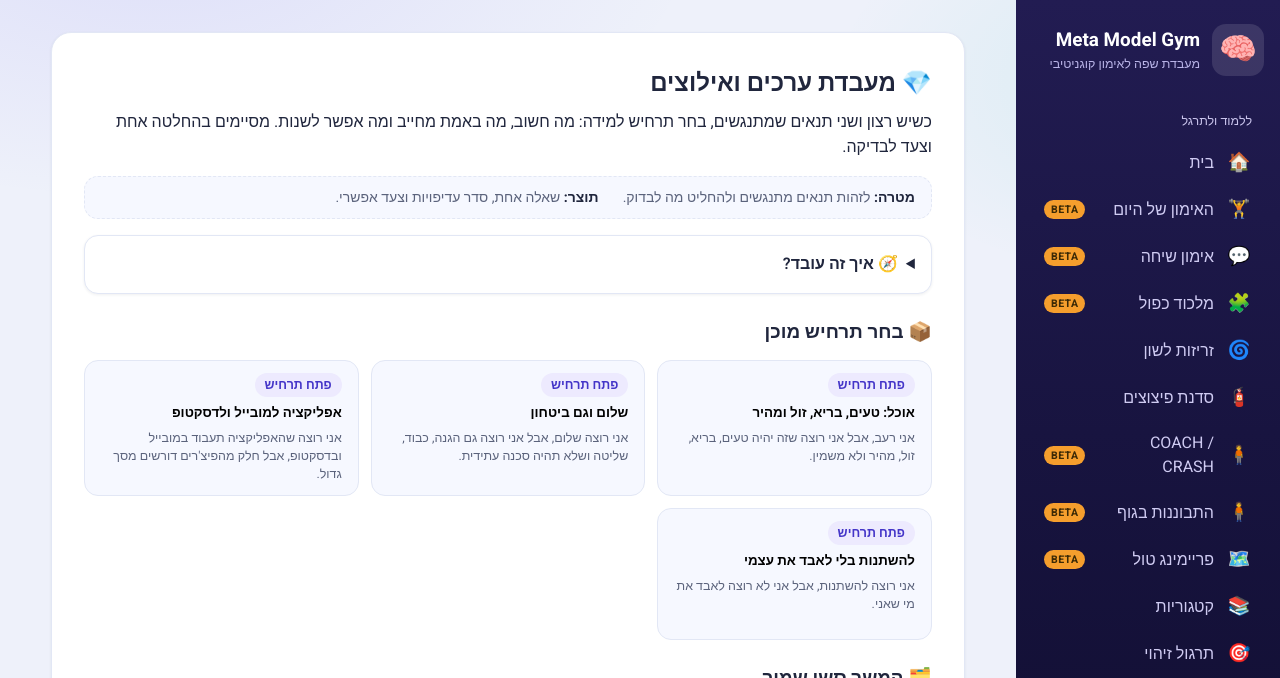
it: values lab › walks one step at a time on a phone and ends with a summary card
The width and height of the screenshot is (1280, 678).
Click the button "פתח תרחיש". click: [795, 428]
box: x1=657 y1=360 x2=932 y2=496
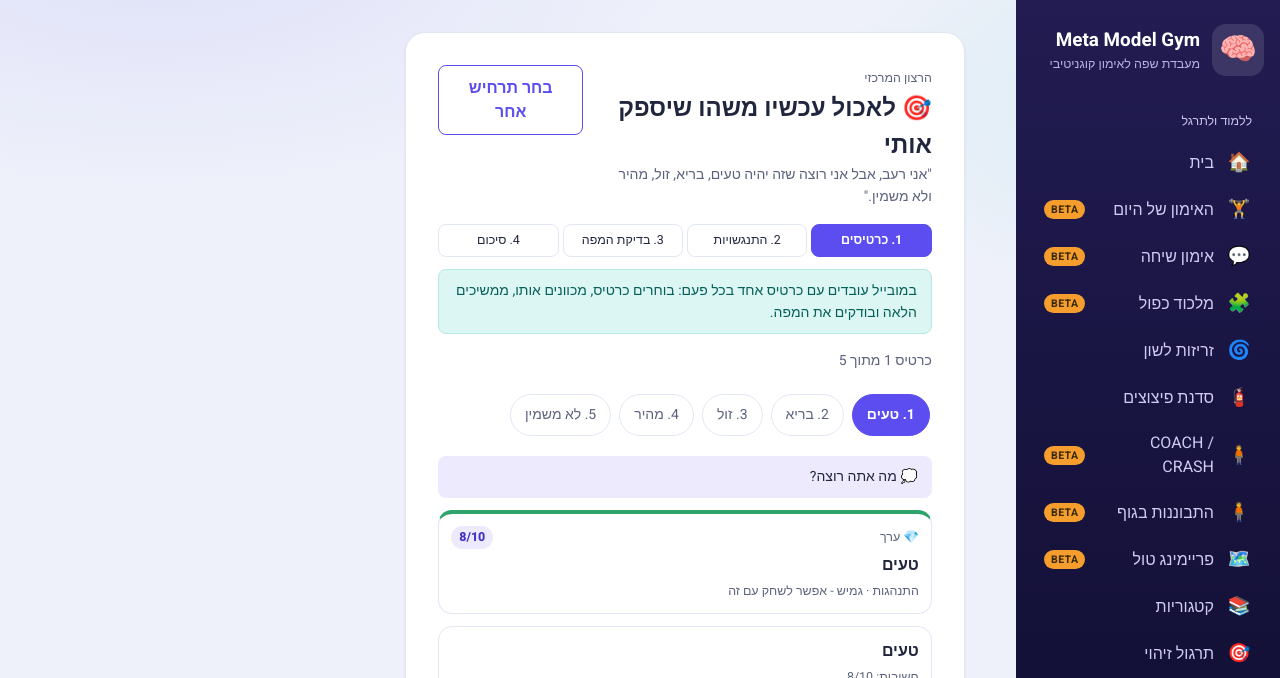
Expected: the button "בדוק את המפה" is not shown
Click the button "3. בדיקת המפה". click: [623, 240]
box: x1=563 y1=224 x2=683 y2=257
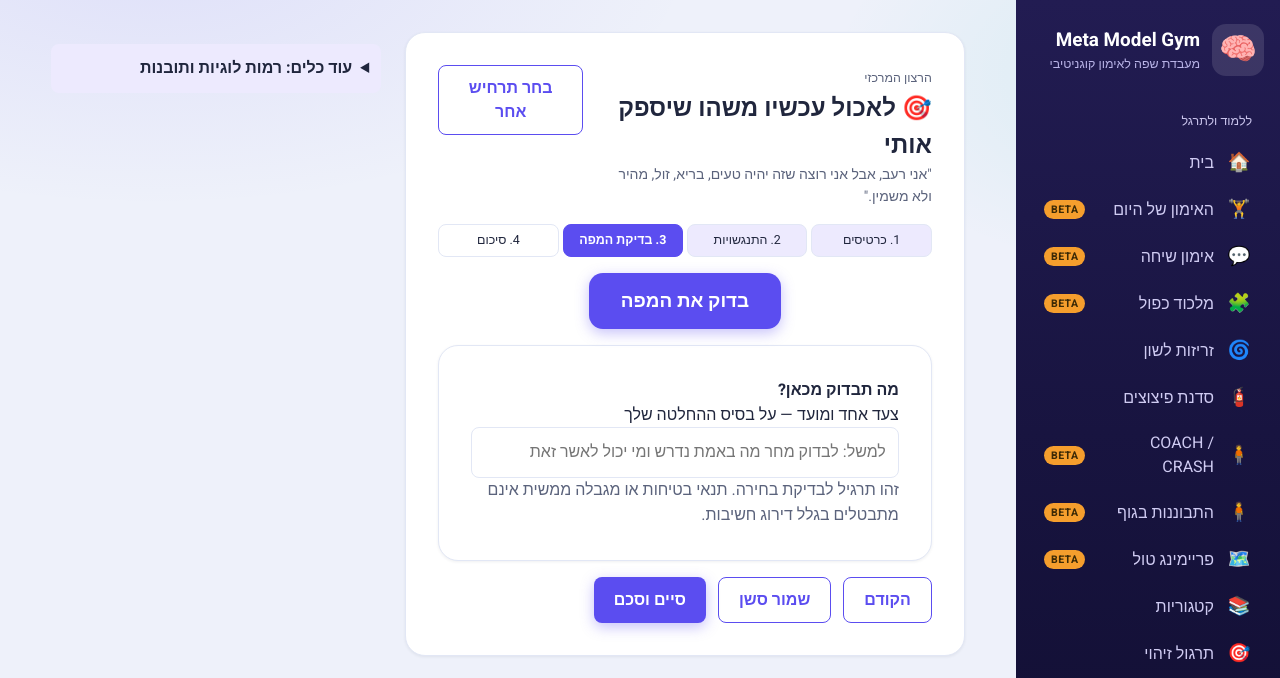
Expected: the text "כרטיס 1 מתוך" is gone
Click the button "בדוק את המפה". click: [685, 301]
box: x1=589 y1=273 x2=781 y2=329
(page scrolled)
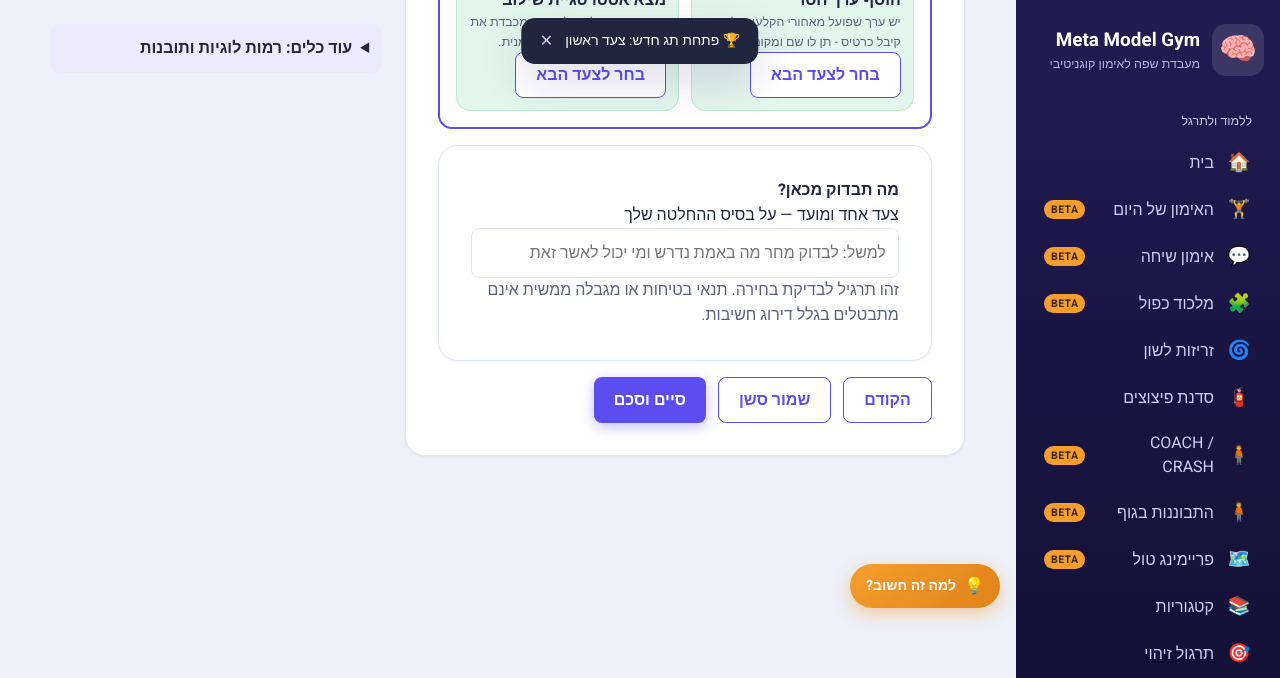
Click the button "סיים וסכם". click: [650, 400]
box: x1=594 y1=377 x2=706 y2=423
(page scrolled)
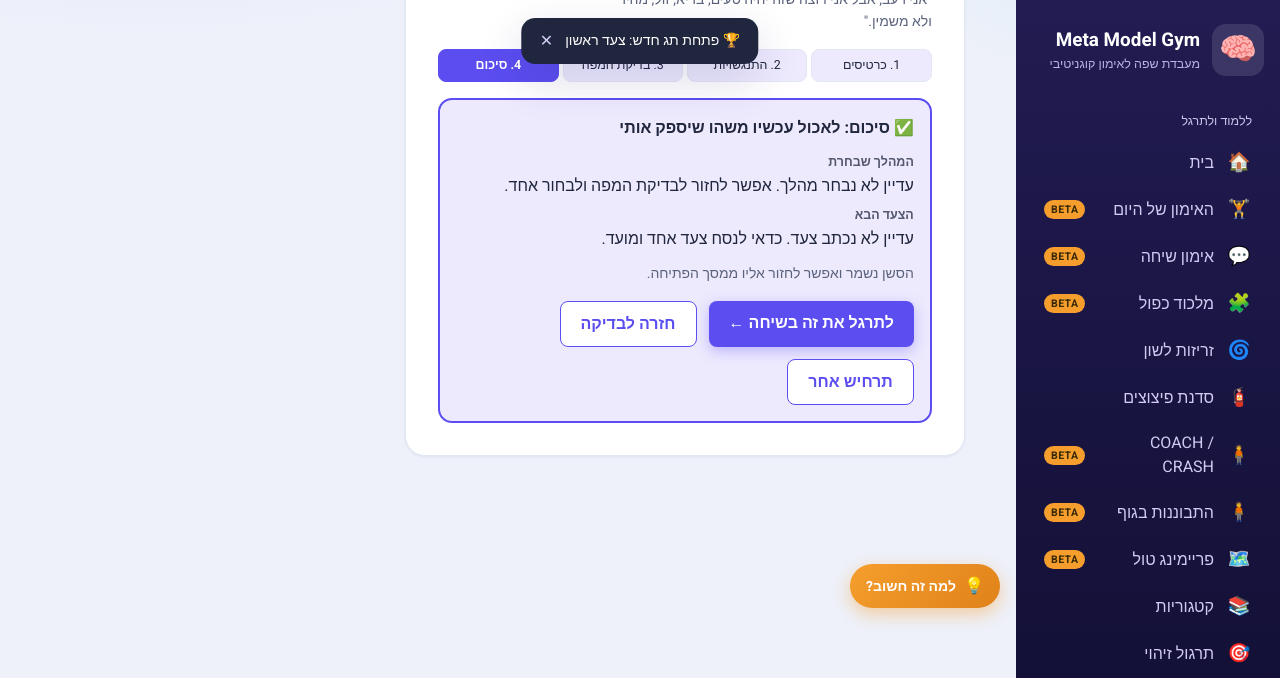
Expected: the text "המהלך שבחרת" is shown, x1=828 y1=153 x2=914 y2=171
